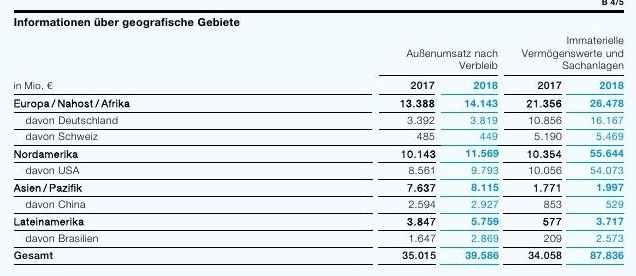table: (0, 0, 636, 276)
